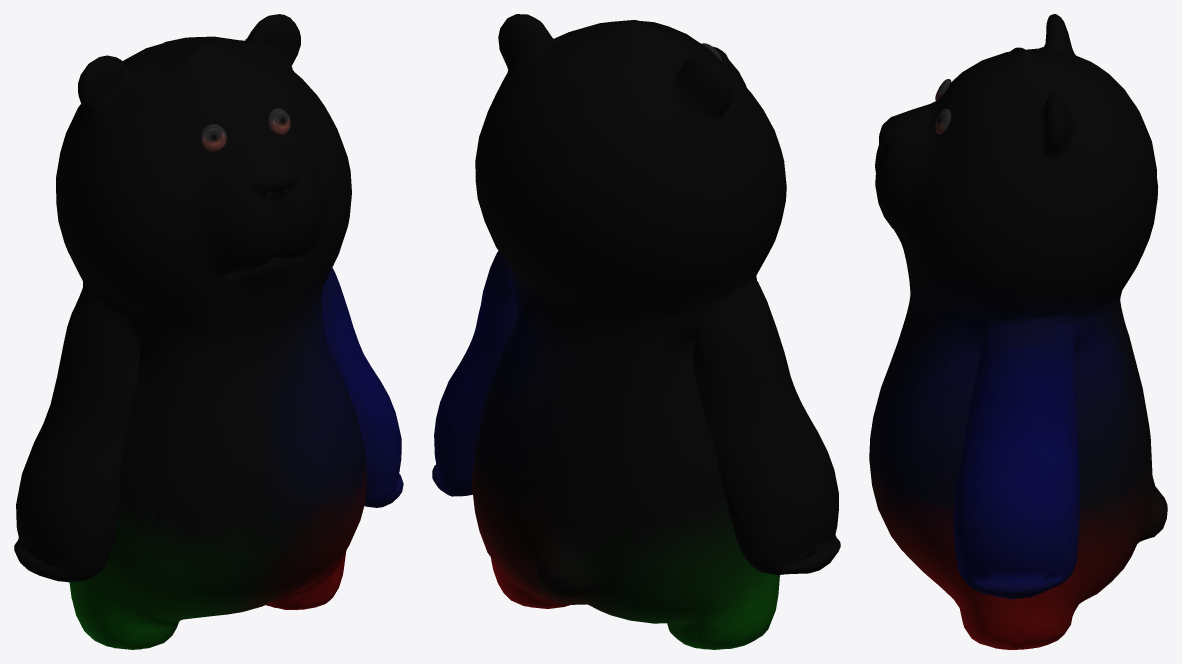
Rendered from bear_shell_v6.glb.
3 views of the same model, side by side, from view 1: azimuth 30°, elevation 25°; view 2: azimuth 150°, elevation 25°; view 3: azimuth 270°, elevation 25° (orthographic). The views are drawn at different scales.
Visible parts, largest first — view 1: BoundedShellGroom, Body, BrownBear_Normal; view 2: BoundedShellGroom, Body; view 3: BoundedShellGroom, Body, BrownBear_Normal.
Boxes of the visible parts, x1,y1,x2,y2 form: BoundedShellGroom: (14, 14, 403, 649); Body: (18, 15, 394, 647); BrownBear_Normal: (200, 108, 290, 151); BoundedShellGroom: (432, 14, 840, 649); Body: (435, 15, 836, 639); BoundedShellGroom: (869, 14, 1167, 649); Body: (870, 17, 1160, 627); BrownBear_Normal: (935, 79, 951, 134).
Bounding box in the file's own units: 1.68 × 2.44 × 1.21.
Materials: 3 (3 with a texture image).
